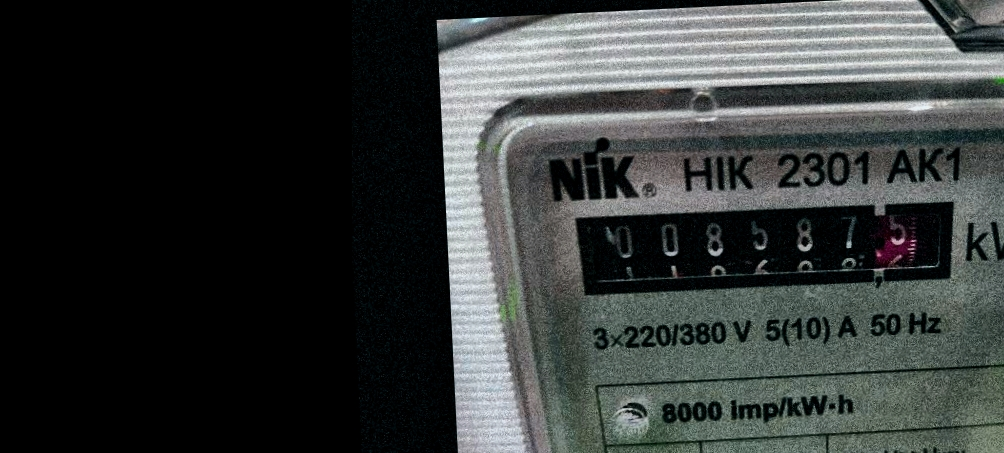0: (657, 217, 683, 258)
1: (611, 219, 637, 261)
5: (886, 207, 911, 248), (748, 214, 773, 253)
7: (837, 210, 862, 252)
8: (701, 217, 728, 259), (793, 213, 816, 255)
screen: (555, 178, 978, 317)
